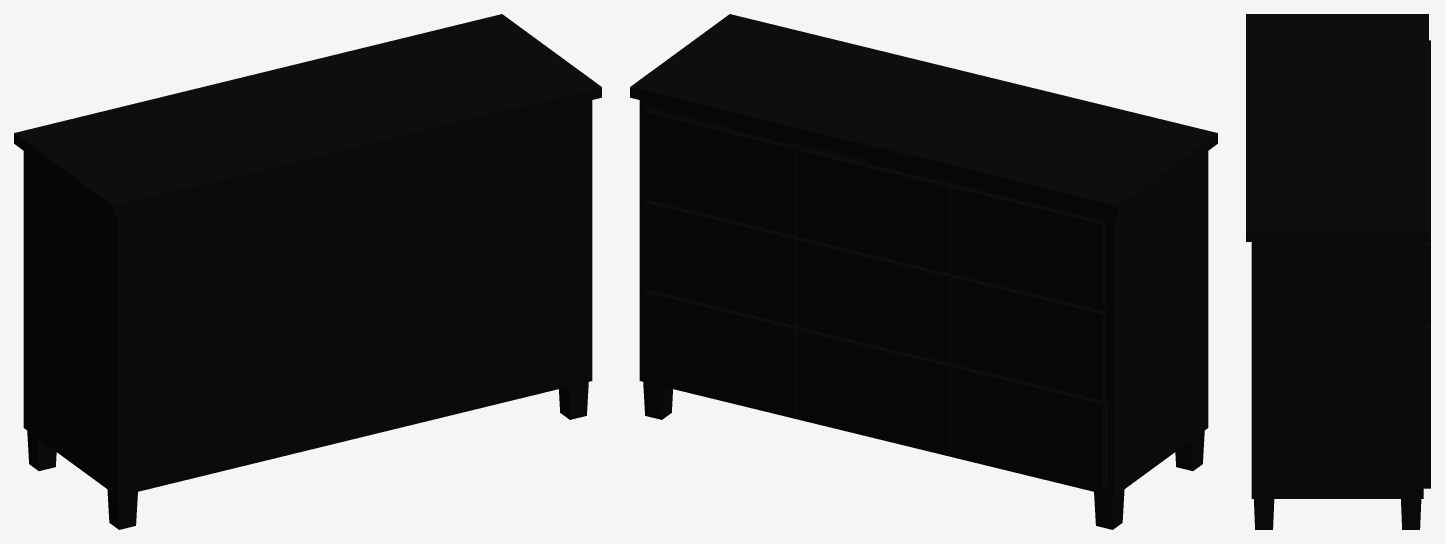
File: SM_dresser_walnut.fbx
The picture shows the model from 3 angles, left to right: view 1: azimuth 30°, elevation 25°; view 2: azimuth 150°, elevation 25°; view 3: azimuth 270°, elevation 25°; orthographic projection. The views are drawn at different scales.
Visible parts, largest first — view 1: dresser_walnut; view 2: dresser_walnut, dresser_walnut_drawer; view 3: dresser_walnut, dresser_walnut_drawer.
Boxes of the visible parts, x1=… form: dresser_walnut: x1=14, y1=14, x2=601, y2=529; dresser_walnut: x1=630, y1=14, x2=1217, y2=529; dresser_walnut_drawer: x1=644, y1=110, x2=869, y2=235; dresser_walnut: x1=1246, y1=14, x2=1430, y2=529; dresser_walnut_drawer: x1=1423, y1=177, x2=1430, y2=323.
Bounding box in the file's own units: 1.44 × 0.93 × 0.515.
